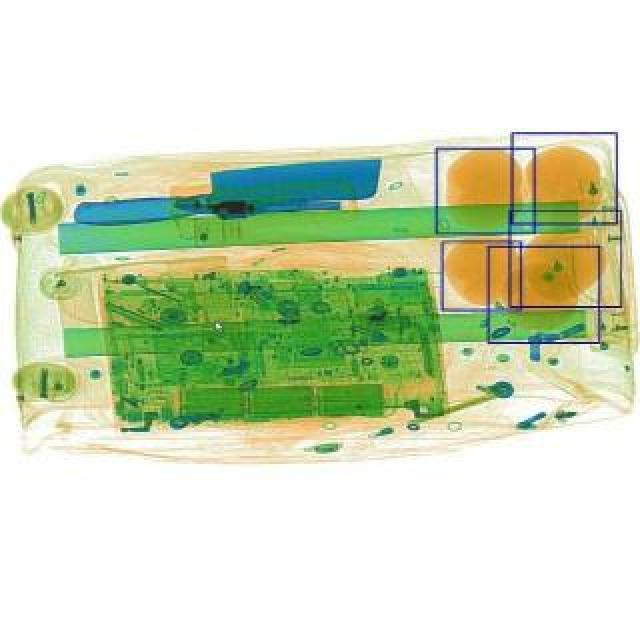gun: (174, 184, 336, 220)
knife: (70, 156, 382, 226)
